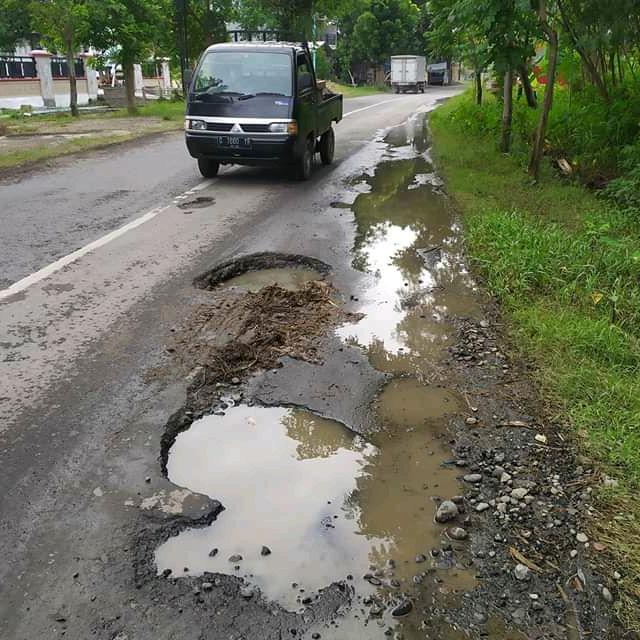lubang_kecil: (125, 363, 370, 638), (145, 227, 343, 318), (173, 187, 247, 223)
